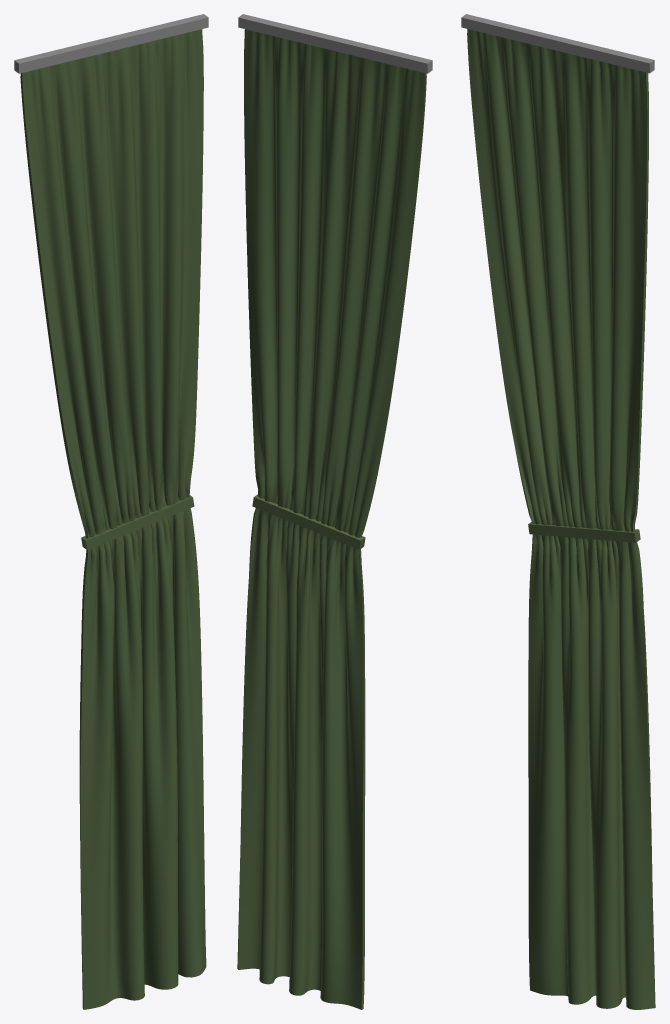
File: 右邊窗簾 (1).fbx
3 views of the same model, side by side, from view 1: azimuth 30°, elevation 25°; view 2: azimuth 150°, elevation 25°; view 3: azimuth 330°, elevation 25° (orthographic).
Parts seen in each view (by area): view 1: Plane002, Box003, Box004; view 2: Plane002, Box003, Box004; view 3: Plane002, Box003, Box004.
Boxes of the visible parts, left/top/right/bottom form: Plane002: left=20, top=29, right=206, bottom=1009; Box003: left=14, top=14, right=208, bottom=73; Box004: left=81, top=495, right=194, bottom=549; Plane002: left=237, top=29, right=426, bottom=1009; Box003: left=238, top=14, right=432, bottom=73; Box004: left=252, top=494, right=365, bottom=549; Plane002: left=467, top=29, right=655, bottom=1009; Box003: left=461, top=14, right=654, bottom=73; Box004: left=528, top=522, right=640, bottom=542.
Bounding box in the file's own units: 45.87 × 221 × 7.07.
